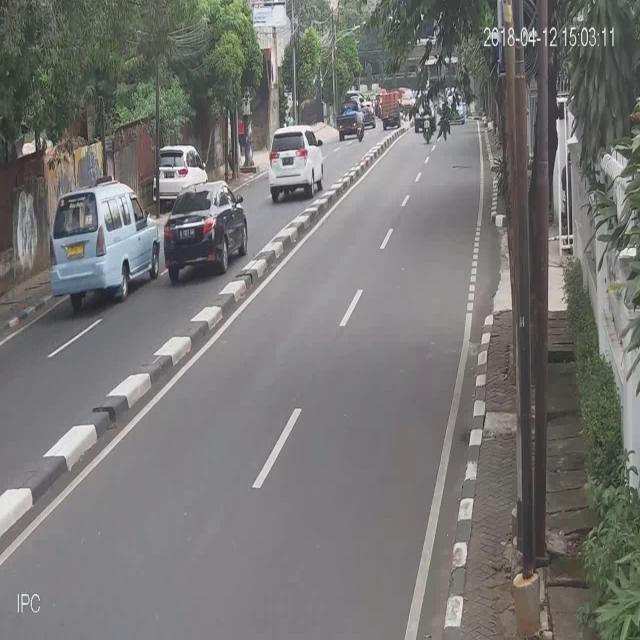motorcycle: (50, 180, 162, 304), (162, 181, 250, 281), (267, 121, 324, 198), (153, 139, 209, 181)
